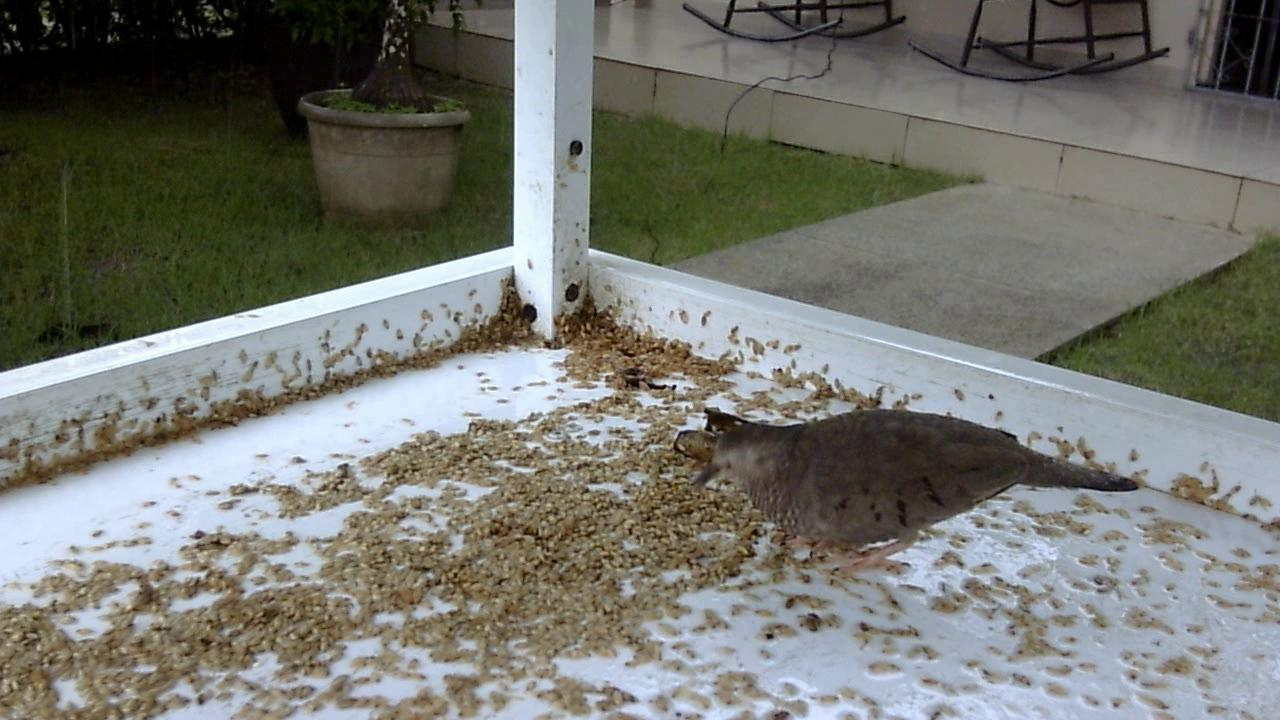rolinha: (671, 393, 1144, 586)
